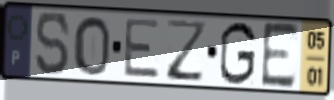E: (259, 21, 301, 91), (122, 17, 163, 81)
G: (218, 20, 259, 88)
O: (72, 14, 112, 78)
S: (34, 10, 72, 78)
Z: (165, 18, 208, 85)
